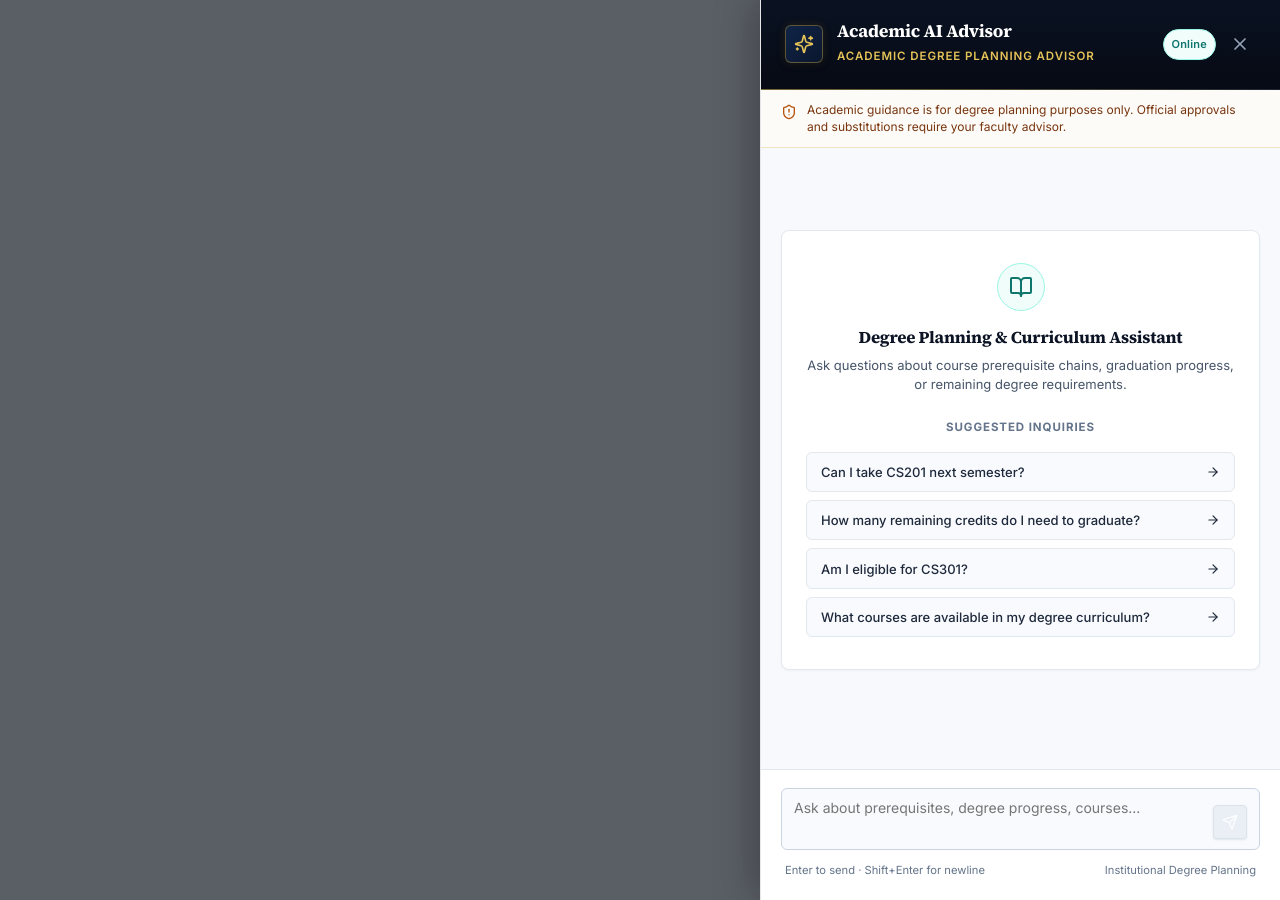
Scenario: AssistantDrawer › handles query errors gracefully
Type "Can I take CS201?" into the text box with placeholder "Ask about prerequisites, degree progress, courses..." at (1000, 819), box [794,798,1205,839]
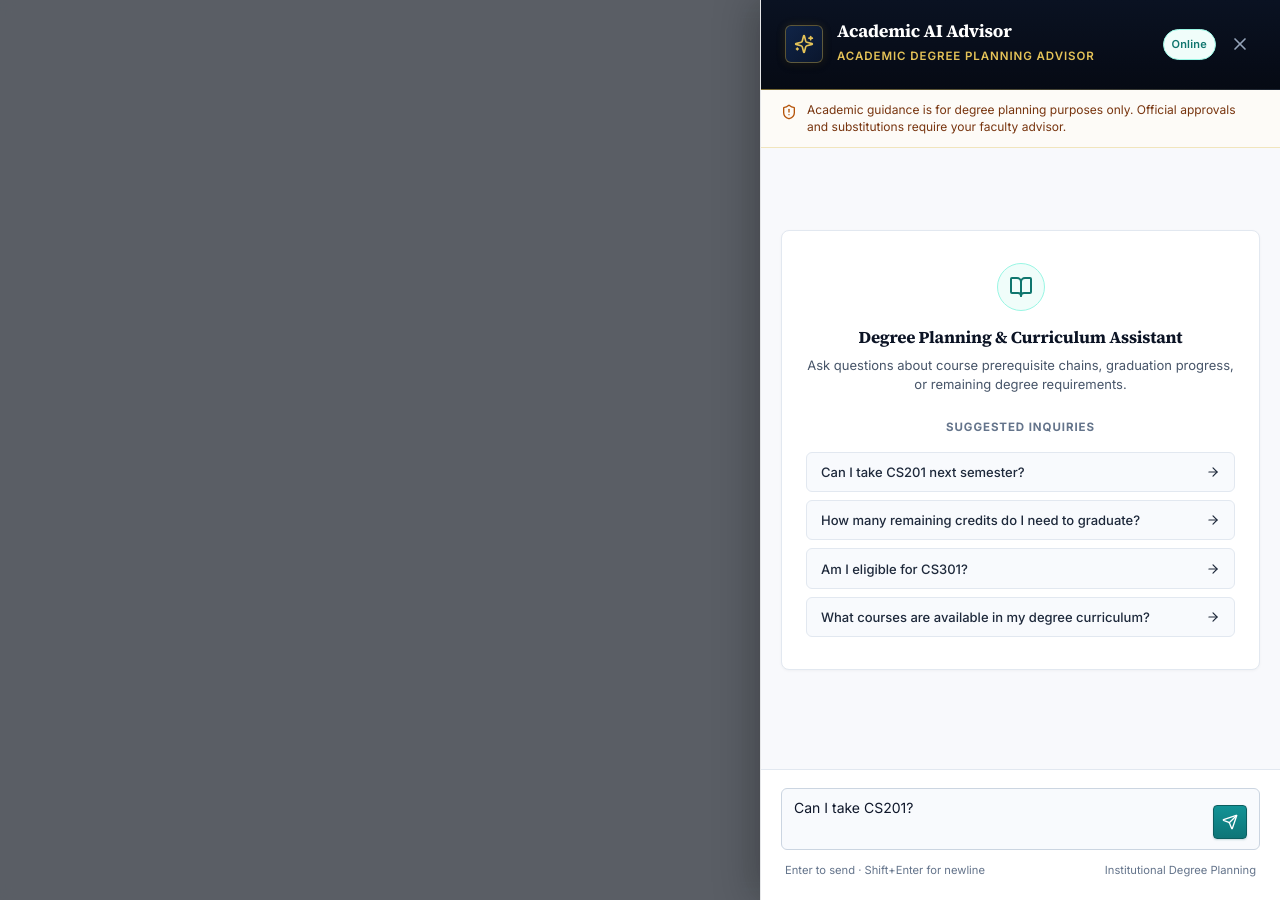
Click the button named "Send query" at (1230, 822), box [1213,805,1247,839]
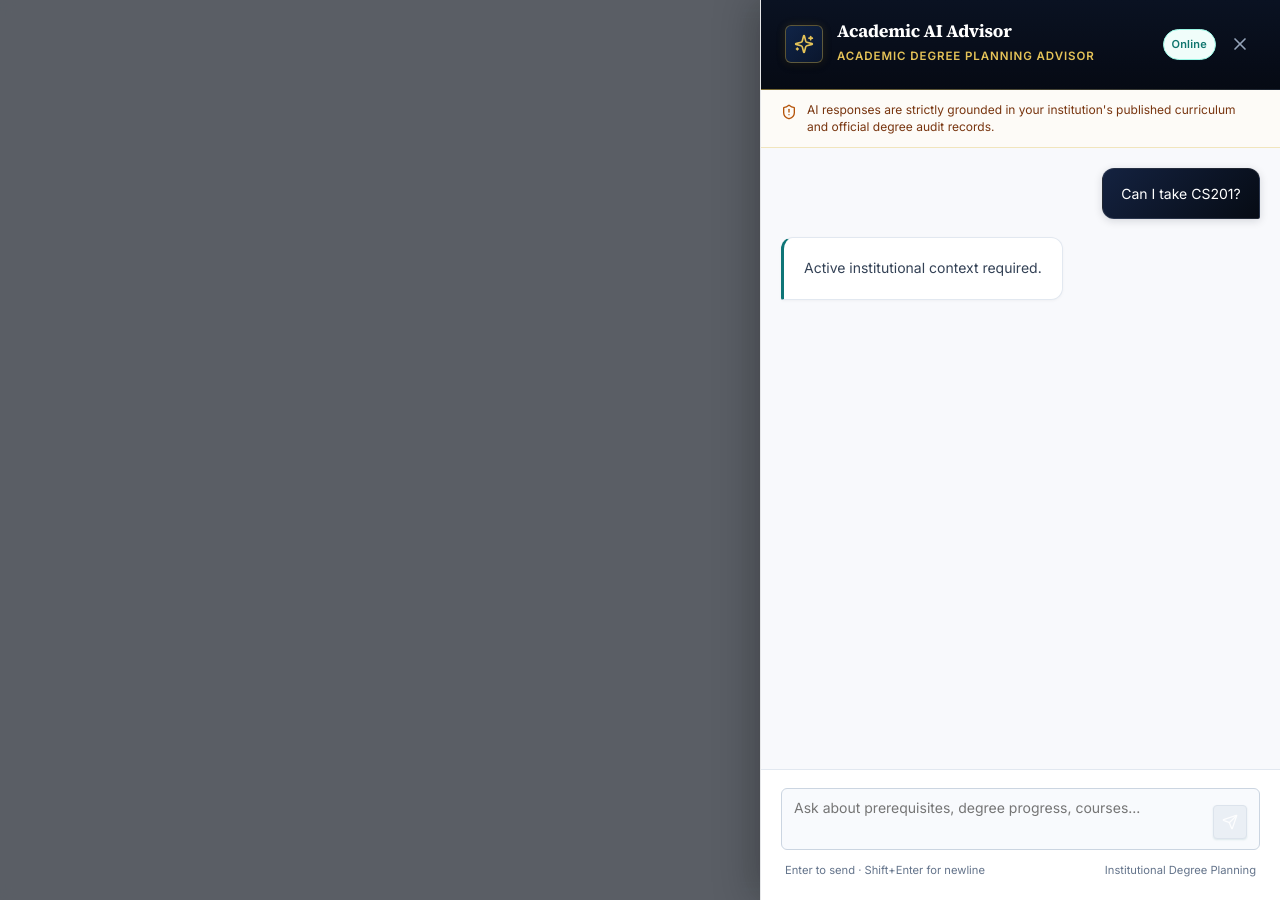
Check: the text "Active institutional context required." is shown, box [804,257,1042,279]
